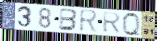3: (17, 5, 34, 29)
8: (37, 7, 53, 30)
B: (58, 7, 79, 32)
Q: (121, 11, 142, 38)
R: (78, 8, 100, 34), (101, 11, 122, 34)
